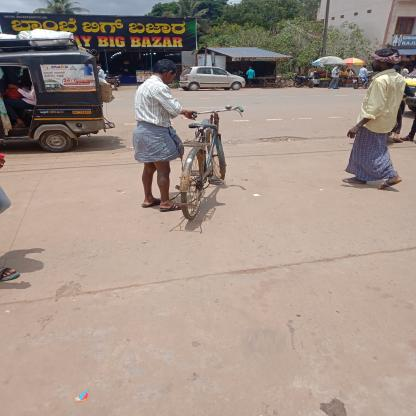bike: (143, 99, 262, 229)
